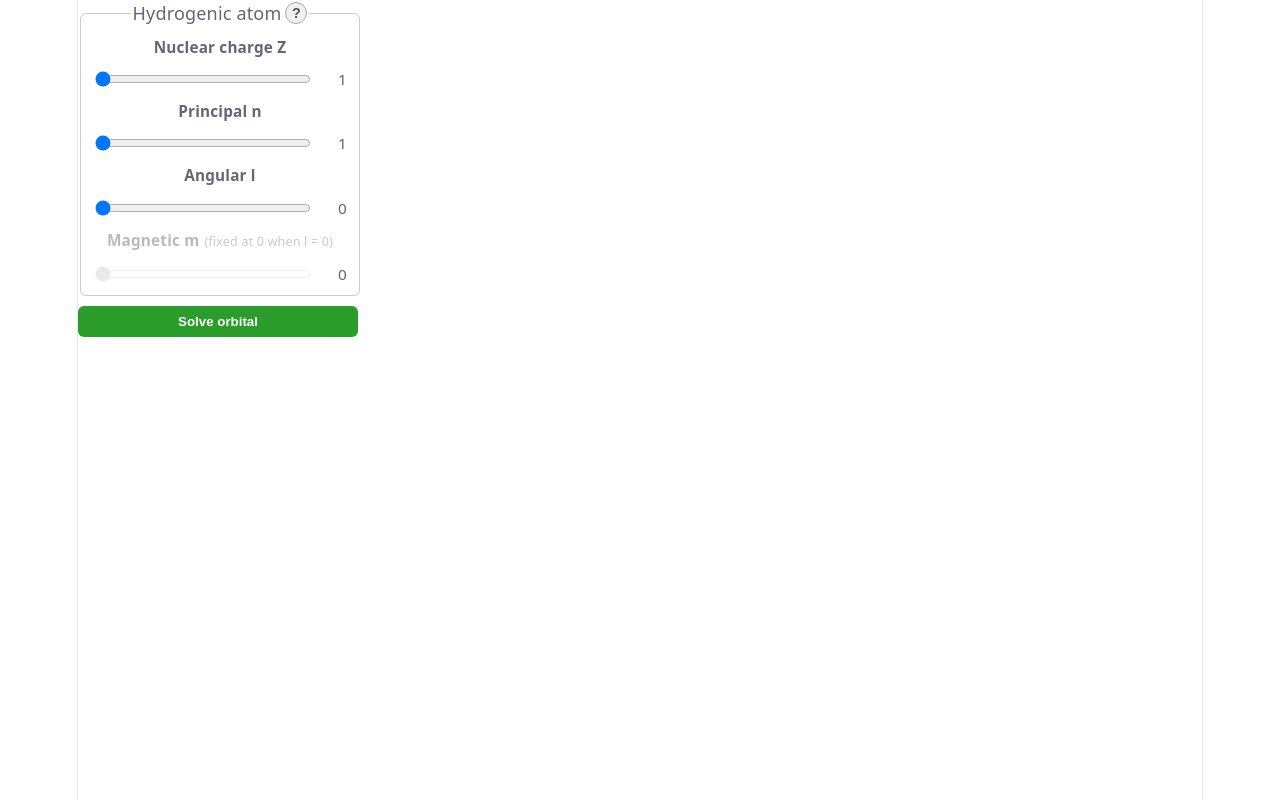
Spec 19 — help modal › clicking ? opens the modal (req 8)
Step 1. Click the button named "show hydrogenic reference" → {"x": 296, "y": 13}, box [285,2,307,24]
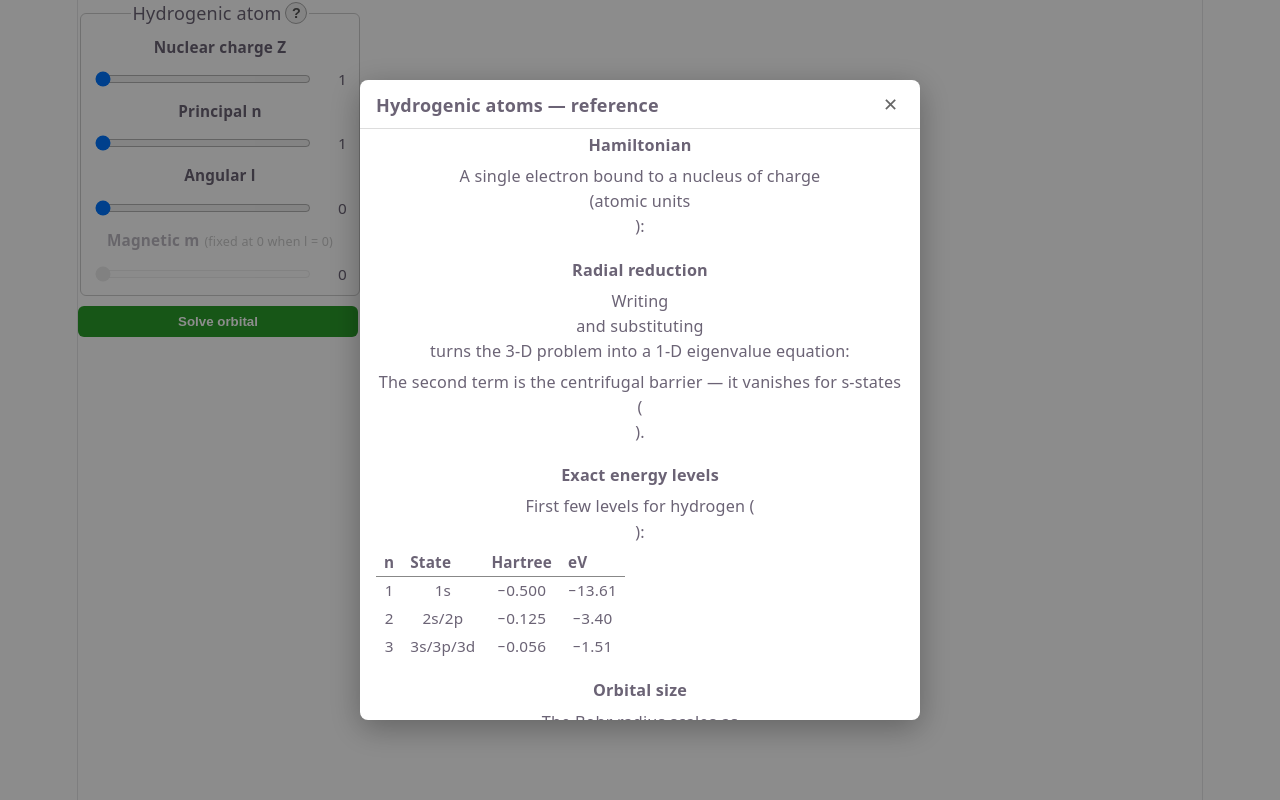
Now the dialog is shown, box [360,80,920,720]
